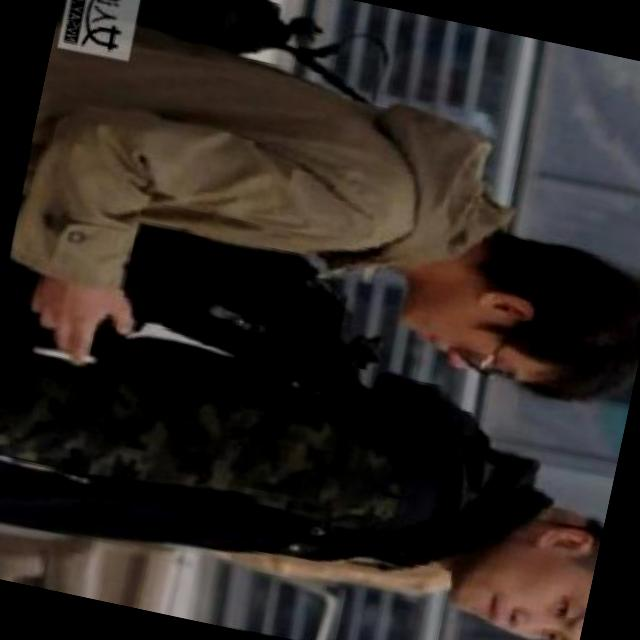smoke: (6, 270, 138, 380)
